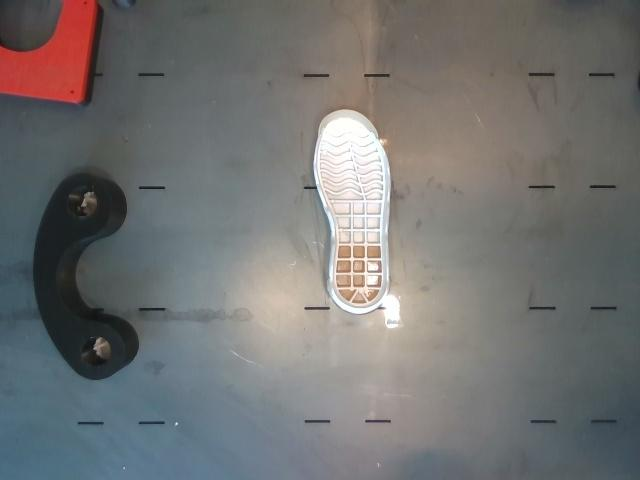shoes: (317, 111, 388, 310)
